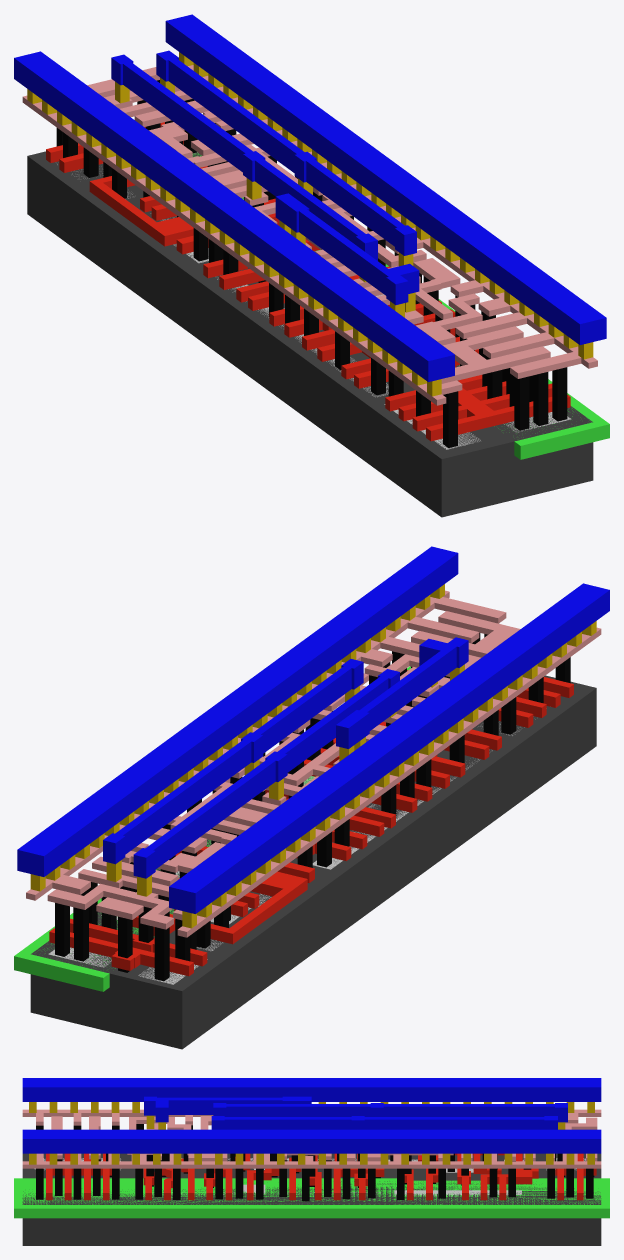
File: sky130_fd_sc_hd__sdfrtp_4.obj
The picture shows the model from 3 angles, top to bottom: view 1: azimuth 30°, elevation 25°; view 2: azimuth 150°, elevation 25°; view 3: azimuth 270°, elevation 25°; orthographic projection. The views are drawn at different scales.
Visible parts, largest first — view 1: metal1, subs, li, poly, licon, mcon, nwell, diff; view 2: metal1, subs, li, poly, licon, mcon, nwell, diff; view 3: metal1, subs, nwell, li, licon, poly, mcon, tap.
Boxes of the visible parts, bbox=[...] form: metal1: bbox=[14, 14, 606, 381]; subs: bbox=[27, 144, 593, 517]; li: bbox=[22, 65, 597, 405]; poly: bbox=[46, 122, 570, 441]; licon: bbox=[56, 80, 567, 447]; mcon: bbox=[27, 52, 593, 396]; nwell: bbox=[192, 152, 609, 459]; diff: bbox=[57, 164, 480, 449]; metal1: bbox=[17, 546, 609, 913]; subs: bbox=[30, 675, 596, 1049]; li: bbox=[26, 590, 601, 937]; poly: bbox=[49, 670, 573, 976]; licon: bbox=[55, 632, 570, 981]; mcon: bbox=[30, 584, 596, 928]; nwell: bbox=[14, 666, 410, 991]; diff: bbox=[138, 719, 535, 984]; metal1: bbox=[22, 1078, 601, 1153]; subs: bbox=[22, 1153, 601, 1245]; nwell: bbox=[14, 1178, 609, 1218]; li: bbox=[22, 1109, 601, 1168]; licon: bbox=[36, 1124, 594, 1201]; poly: bbox=[46, 1153, 596, 1200]; mcon: bbox=[29, 1102, 594, 1164]; tap: bbox=[152, 1184, 521, 1196].
Bounding box in the file's own units: 3.2 × 2.74 × 13.26.
